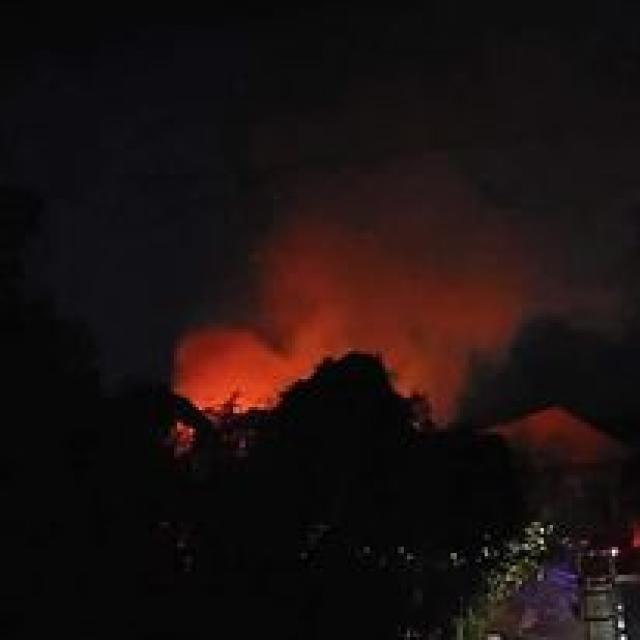Smoke: (176, 96, 486, 428)
